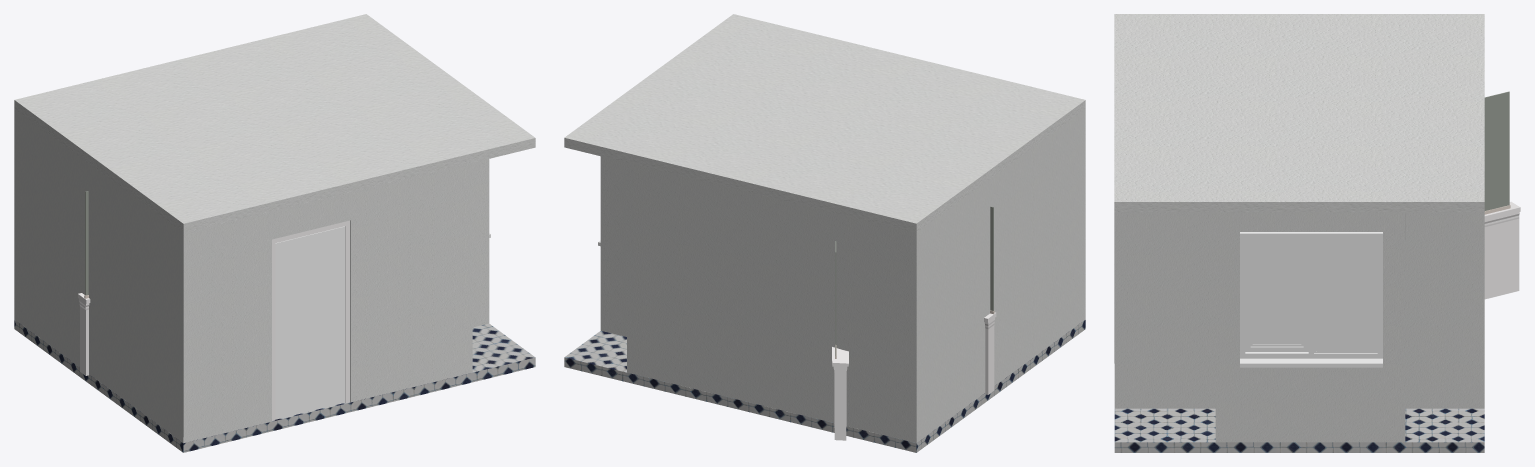
Rendered from FloorPlan423_physics.fbx.
The picture shows the model from 3 angles, left to right: view 1: azimuth 30°, elevation 25°; view 2: azimuth 150°, elevation 25°; view 3: azimuth 270°, elevation 25°; orthographic projection. The views are drawn at different scales.
Visible parts, largest first — view 1: FP423:Walls, FP423:Ceiling, FP423:Door.019, FP423:Floor, FP423:DoorFrame.019, FP423:polySurface372; view 2: FP423:Walls, FP423:Ceiling, FP423:Floor, FP423:polySurface372, FP423:polySurface370; view 3: FP423:Ceiling, FP423:Walls, FP423:polySurface105, FP423:Floor, FP423:polySurface109, FP423:polySurface372, FP423:polySurface370.
Boxes of the visible parts, x1,y1,x2,y2 form: FP423:Walls: (14,109,489,442); FP423:Ceiling: (14,14,535,233); FP423:Door.019: (275,226,345,419); FP423:Floor: (14,319,535,452); FP423:DoorFrame.019: (272,220,349,420); FP423:polySurface372: (78,293,90,375); FP423:Walls: (600,109,1085,442); FP423:Ceiling: (564,14,1085,233); FP423:Floor: (564,320,1085,452); FP423:polySurface372: (832,310,996,440); FP423:polySurface370: (835,206,993,355); FP423:Ceiling: (1114,14,1484,212); FP423:Walls: (1114,212,1484,442); FP423:polySurface105: (1252,239,1375,350); FP423:Floor: (1114,408,1484,452); FP423:polySurface109: (1240,232,1382,367); FP423:polySurface372: (1484,201,1520,299); FP423:polySurface370: (1484,91,1509,210).
Size of the model in its own units: 440 by 261 by 383.
